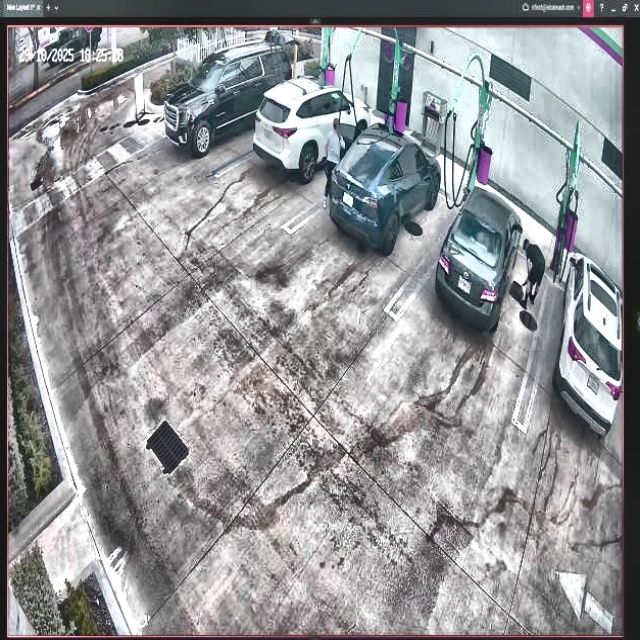Car: (329, 120, 441, 254), (254, 74, 370, 179), (436, 186, 521, 329)
